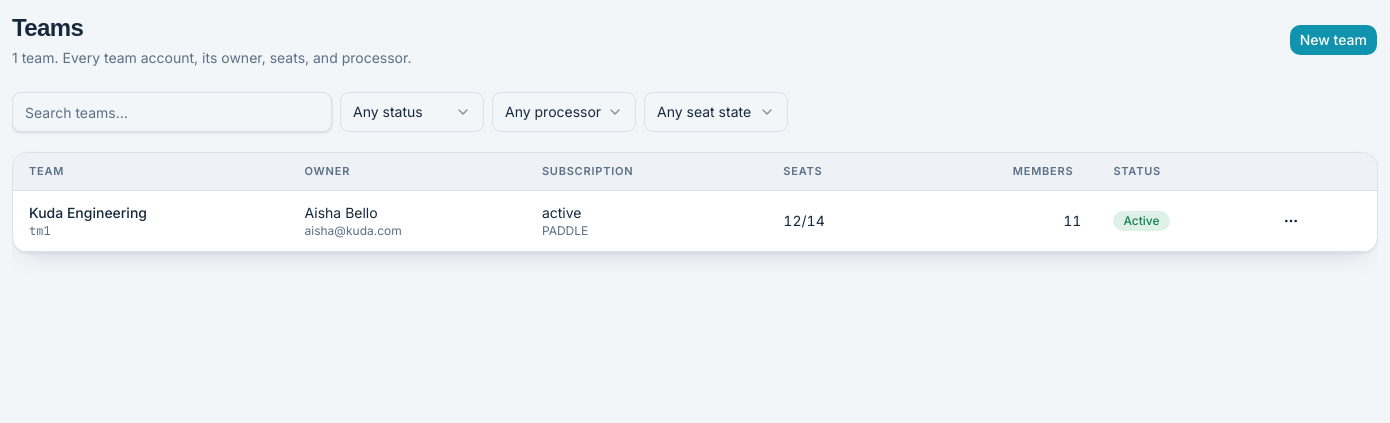
it: TeamsTable › includes MANUAL in the processor filter
Click the dropdown named "filter by processor". click: {"x": 564, "y": 112}
box: [492,92,636,132]
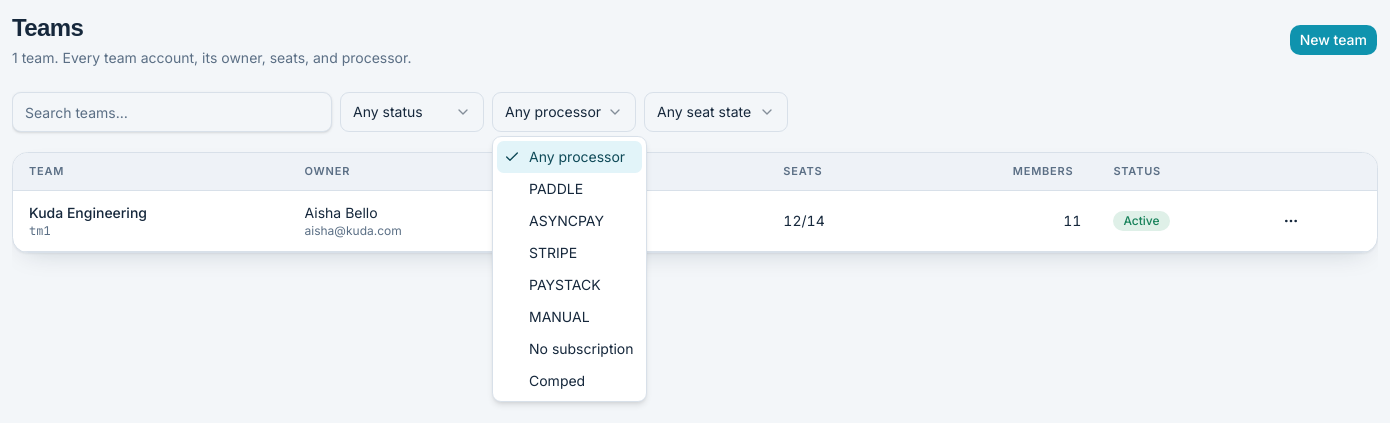
expect the text "MANUAL" is shown: met, box [529,307,590,327]
